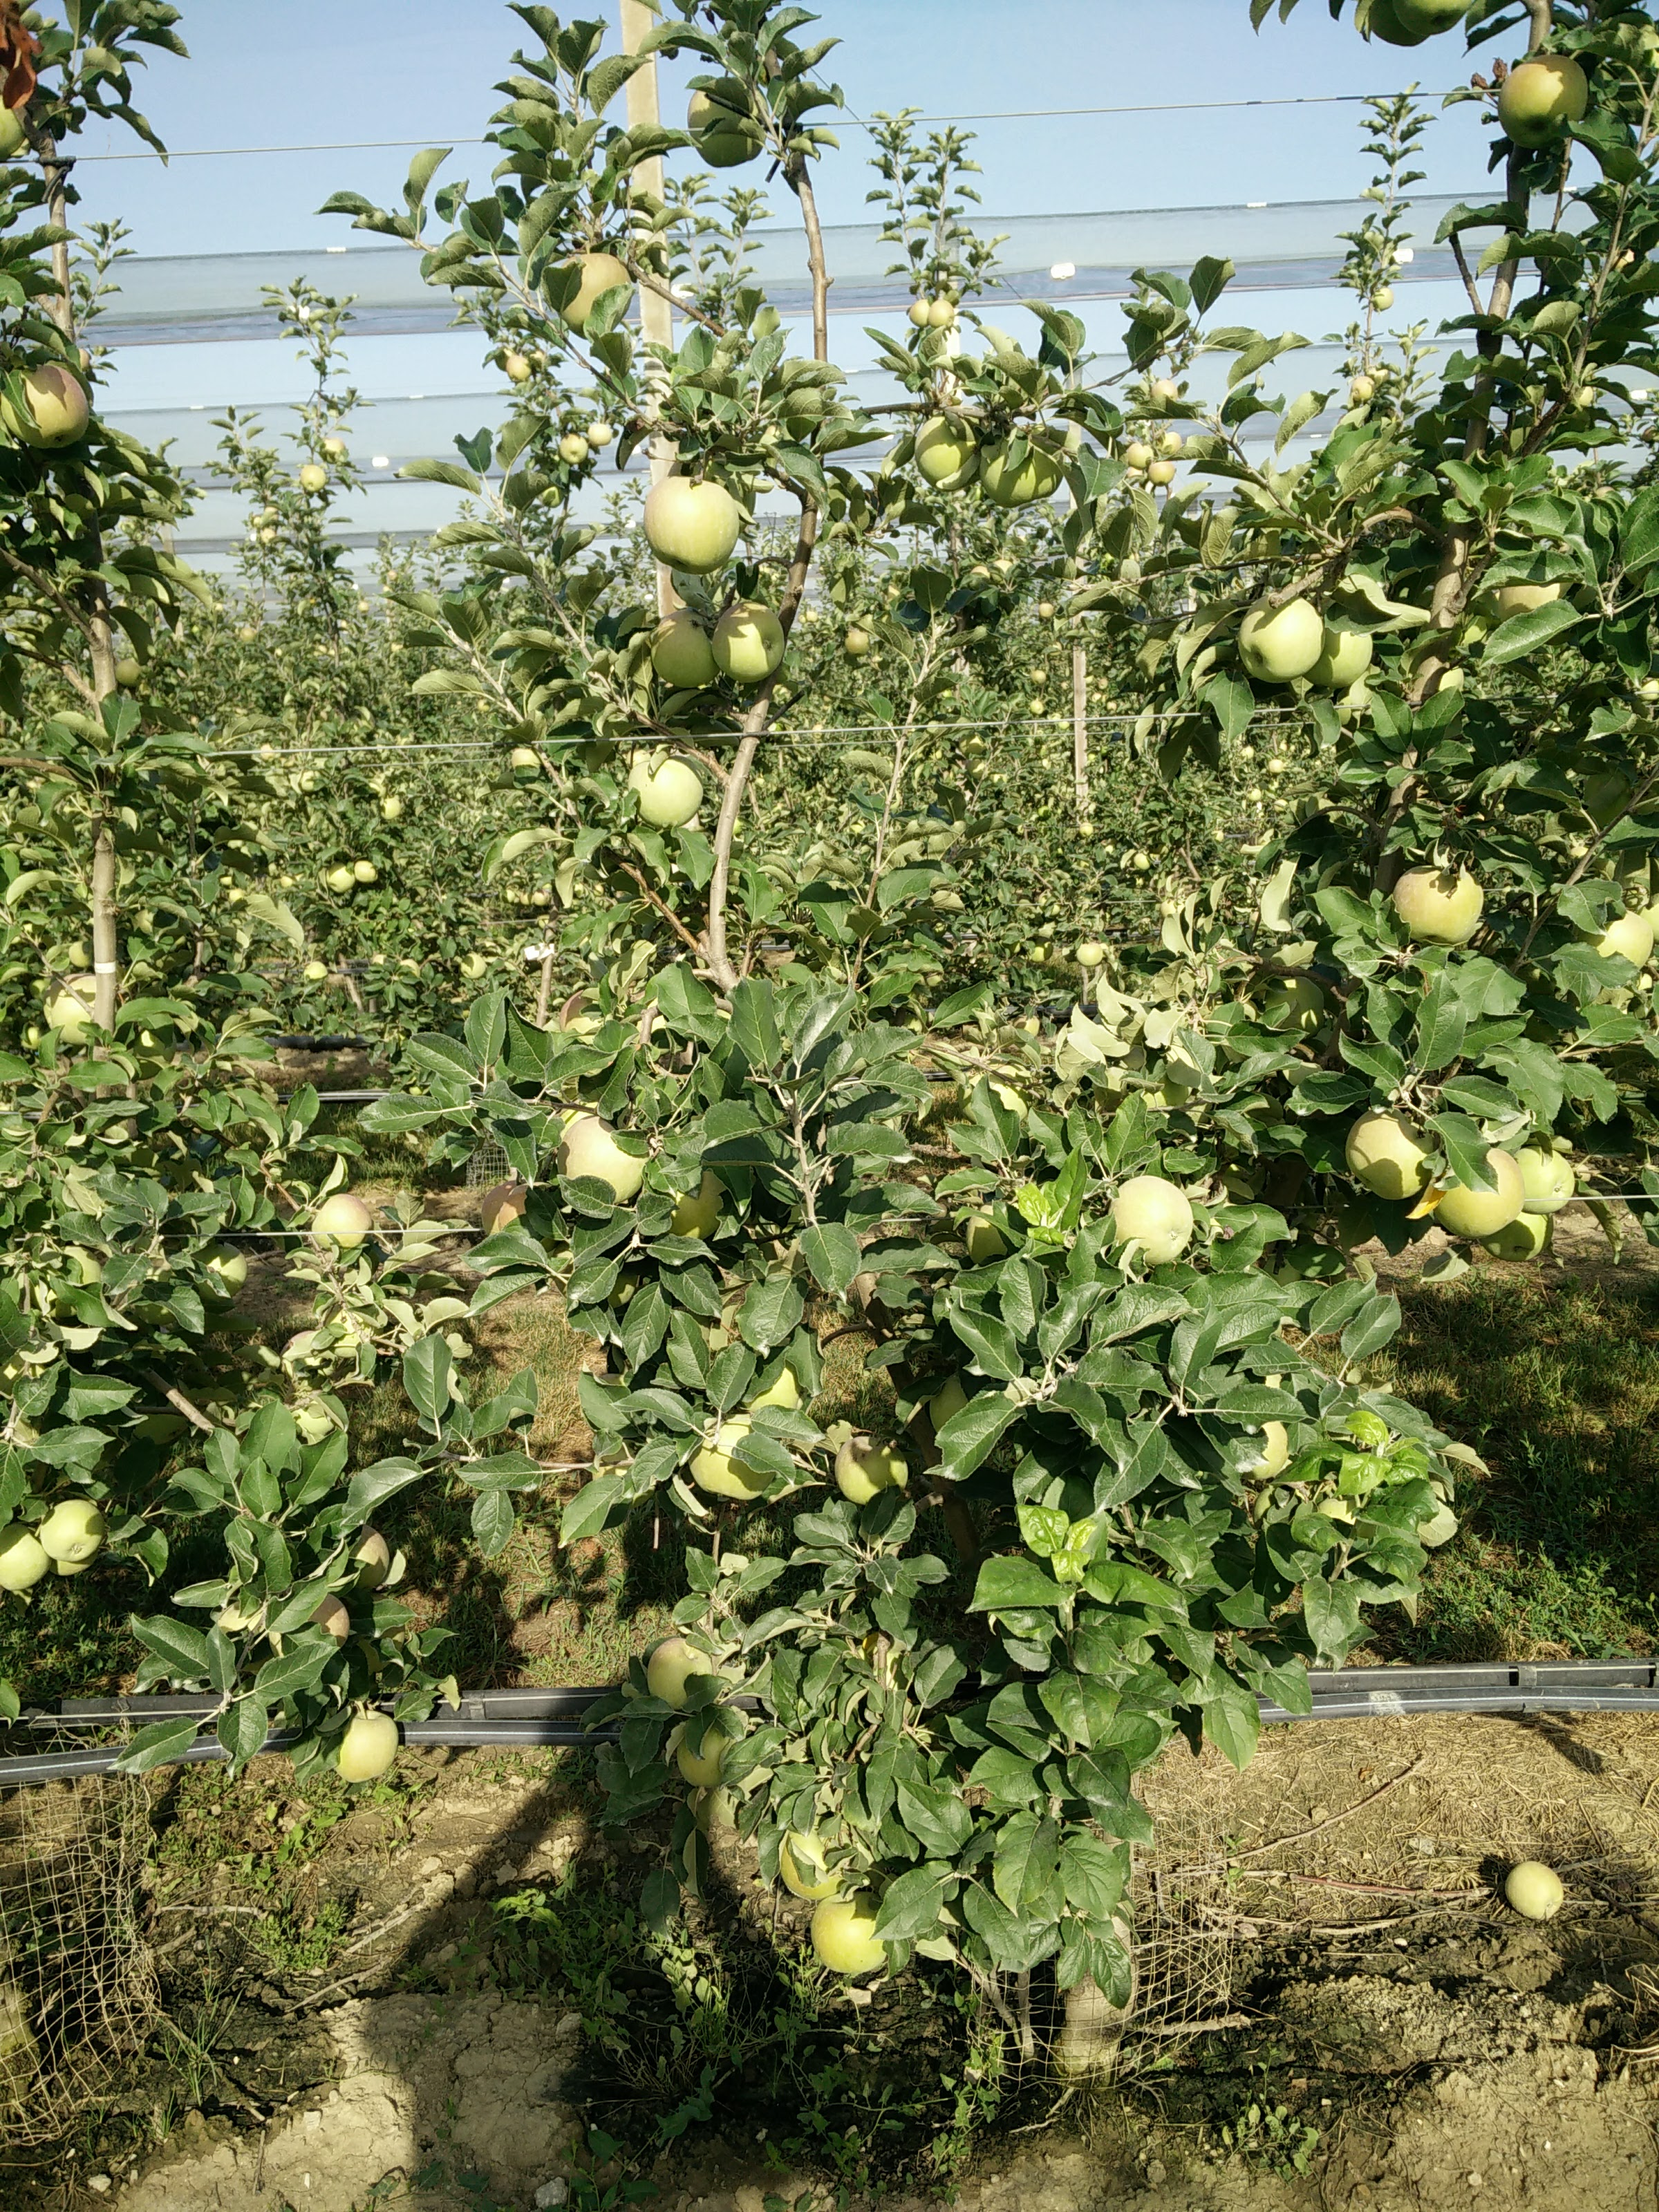apple: (1430, 1141, 1524, 1238), (646, 476, 735, 574), (1494, 53, 1586, 146), (1347, 1104, 1436, 1199), (552, 1114, 649, 1199), (5, 360, 98, 447), (683, 1416, 775, 1503), (1235, 593, 1322, 682), (1109, 1173, 1194, 1262), (706, 599, 794, 684), (1393, 859, 1483, 940), (977, 429, 1068, 505), (805, 1896, 891, 1979), (550, 253, 628, 334), (622, 751, 706, 823), (324, 1706, 400, 1785), (648, 609, 722, 692), (1304, 606, 1376, 689), (835, 1437, 911, 1512), (1509, 1140, 1582, 1212), (915, 412, 979, 492), (648, 1635, 718, 1708), (1584, 906, 1651, 981), (300, 1190, 372, 1254), (39, 1499, 100, 1562)
